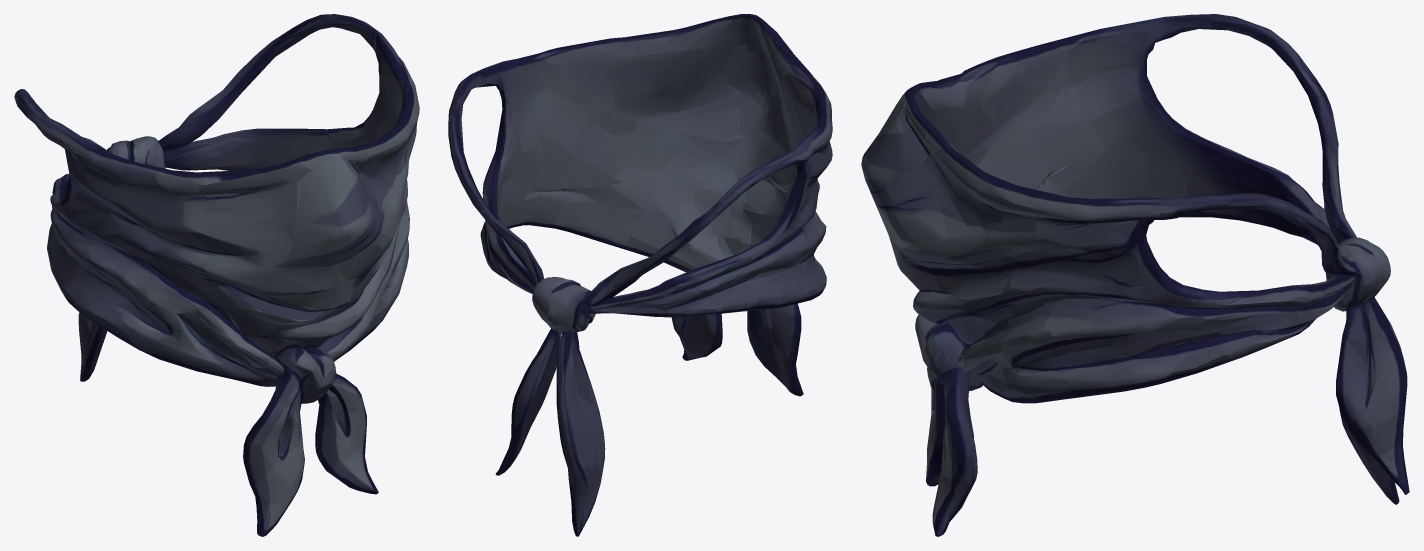
The model's file is nerith_m-masque-3-foulard-noue.glb.
3 renders of one model, left to right at view 1: azimuth 30°, elevation 25°; view 2: azimuth 150°, elevation 25°; view 3: azimuth 270°, elevation 25°, orthographic. The views are drawn at different scales.
Visible parts, largest first — view 1: geometry_0; view 2: geometry_0; view 3: geometry_0.
Part boxes in pixels (bbox=[...]): geometry_0: bbox=[14, 14, 419, 536]; geometry_0: bbox=[448, 14, 832, 536]; geometry_0: bbox=[861, 14, 1409, 536].
Bounding box in the file's own units: 1.58 × 1.65 × 1.9.
Materials: 1 (1 with a texture image).
